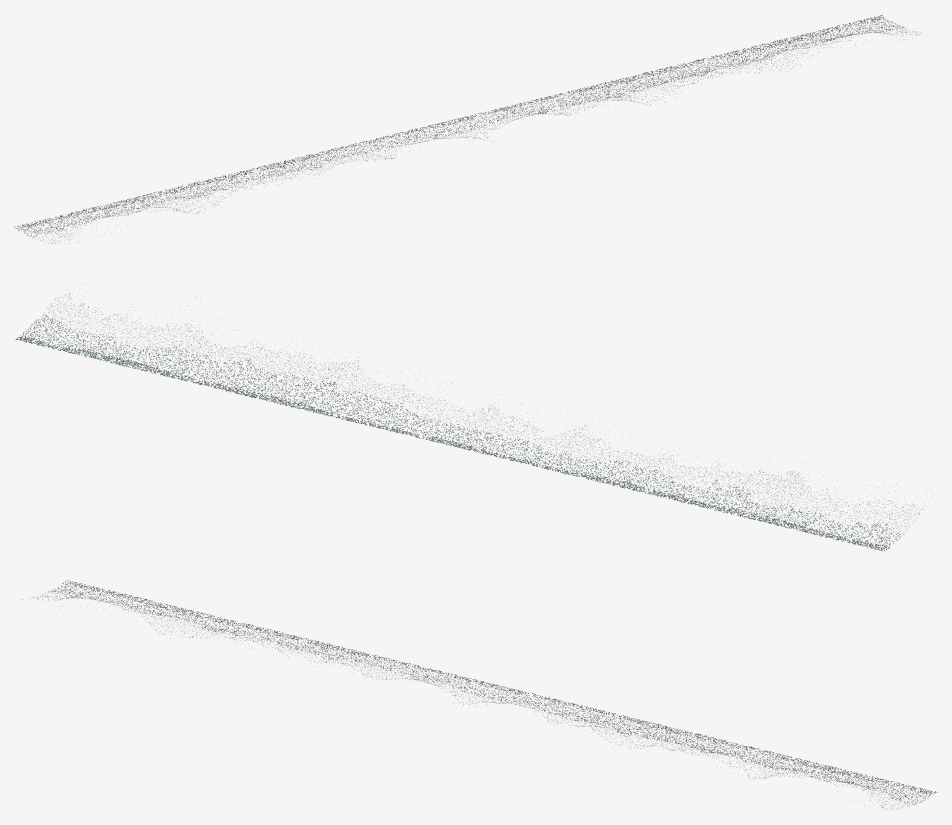
Rendered from MountainGrass.obj.
3 renders of one model, top to bottom at view 1: azimuth 30°, elevation 25°; view 2: azimuth 150°, elevation 25°; view 3: azimuth 330°, elevation 25°, orthographic.
Visible parts, largest first — view 1: 平面.23250; view 2: 平面.23250; view 3: 平面.23250.
Part boxes in pixels (x1,y1,x2,y2): 平面.23250: (14,15,920,243); 平面.23250: (14,289,922,551); 平面.23250: (22,580,937,810).
Size of the model in its own units: 8011 by 320 by 961.
1 material, 1 textured.
